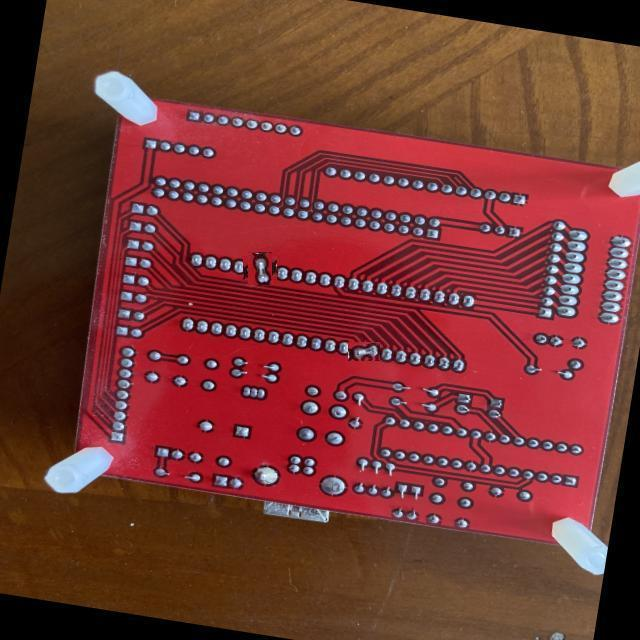damged: (246, 254, 275, 283), (348, 342, 381, 361)
